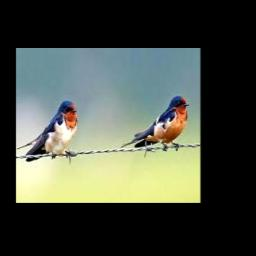Swallow: (121, 95, 191, 150), (17, 100, 79, 162)
